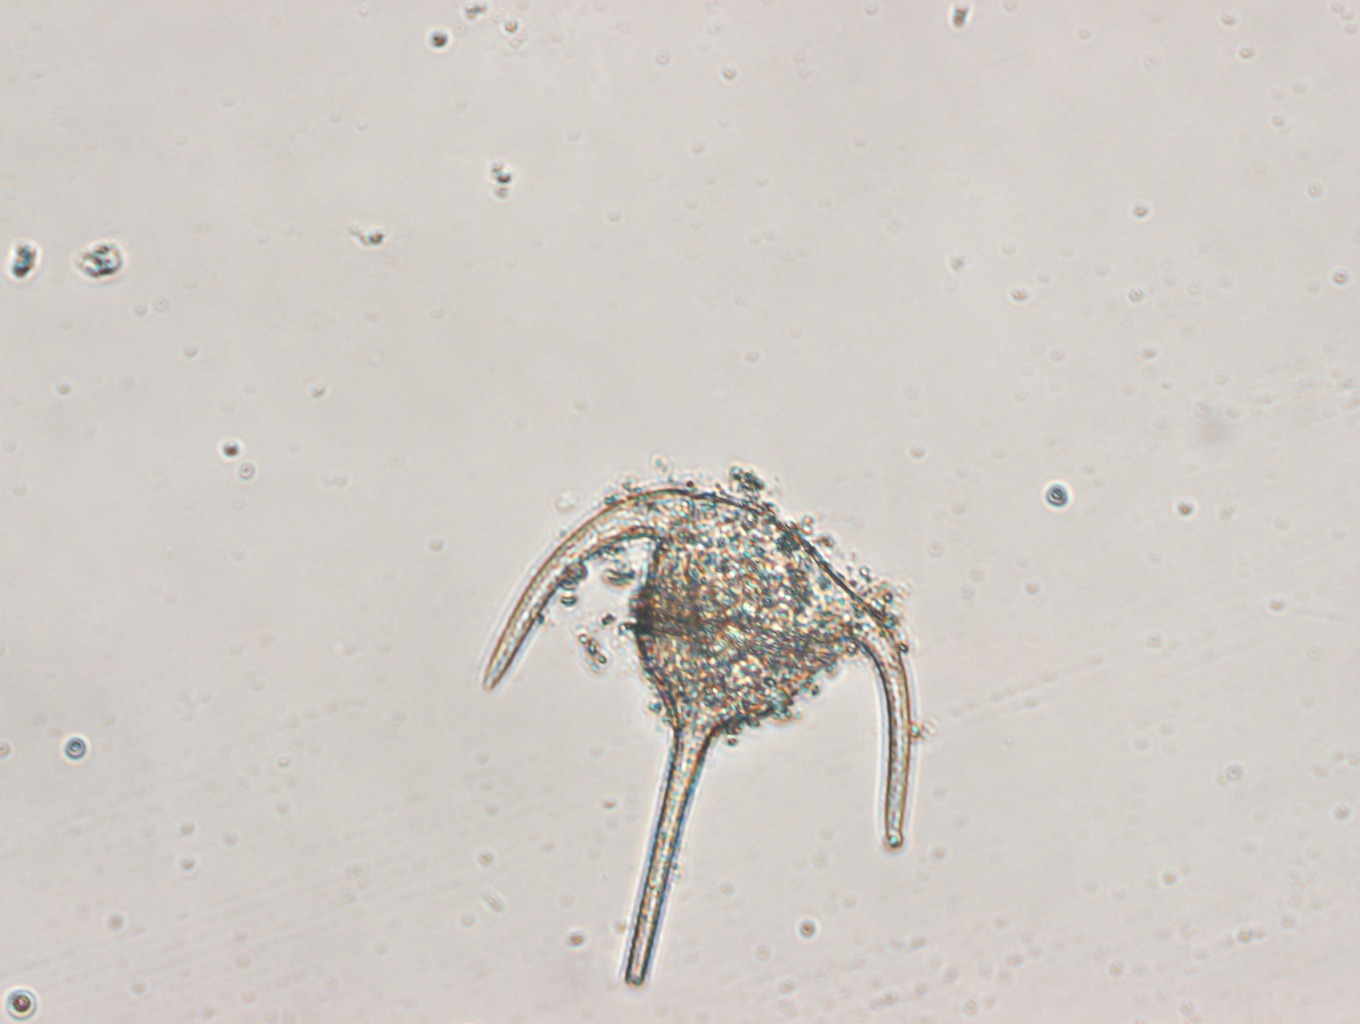ceratium tripos: (479, 485, 911, 989)
